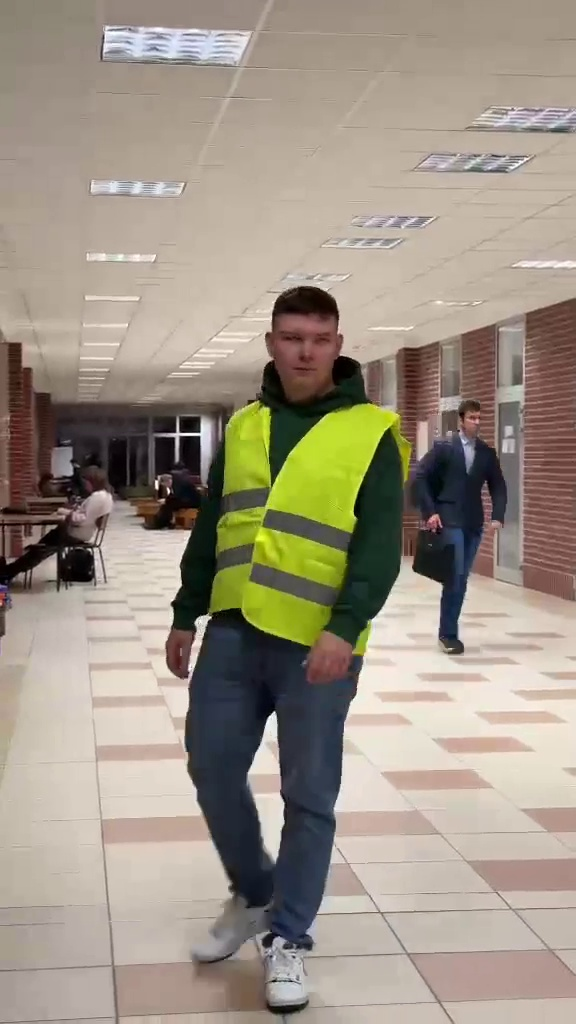no vest: (410, 389, 509, 647), (6, 455, 116, 579)
vest: (169, 281, 405, 1024)
